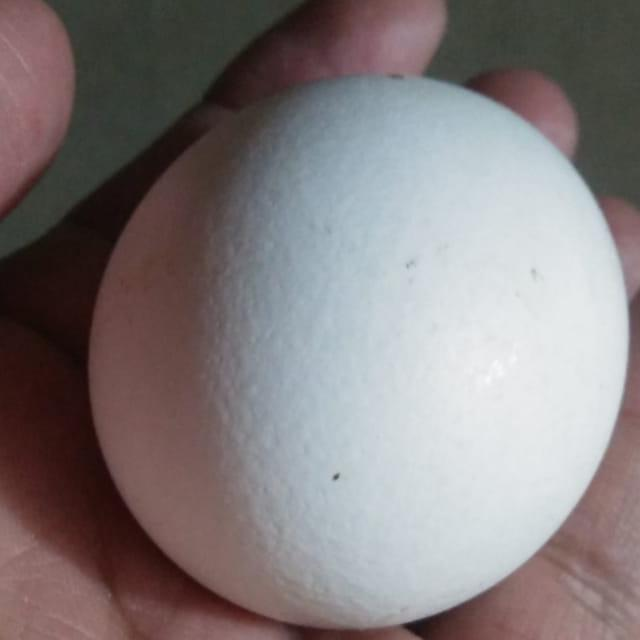egg: (82, 70, 634, 633)
